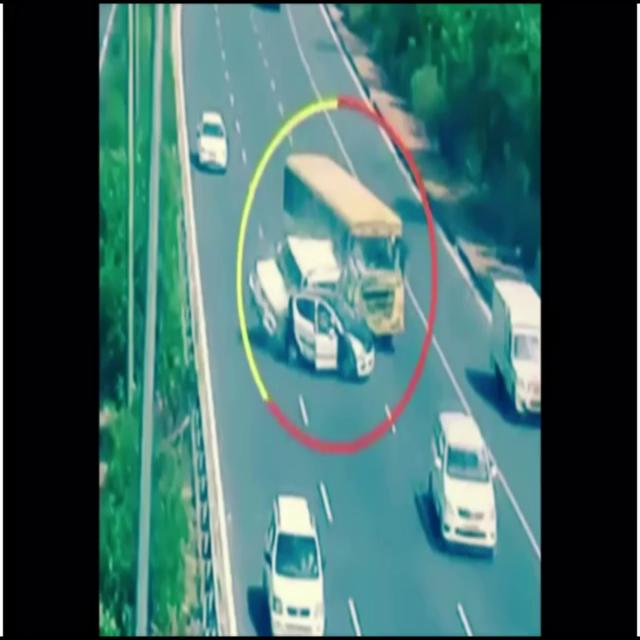accident: (256, 238, 373, 376)
